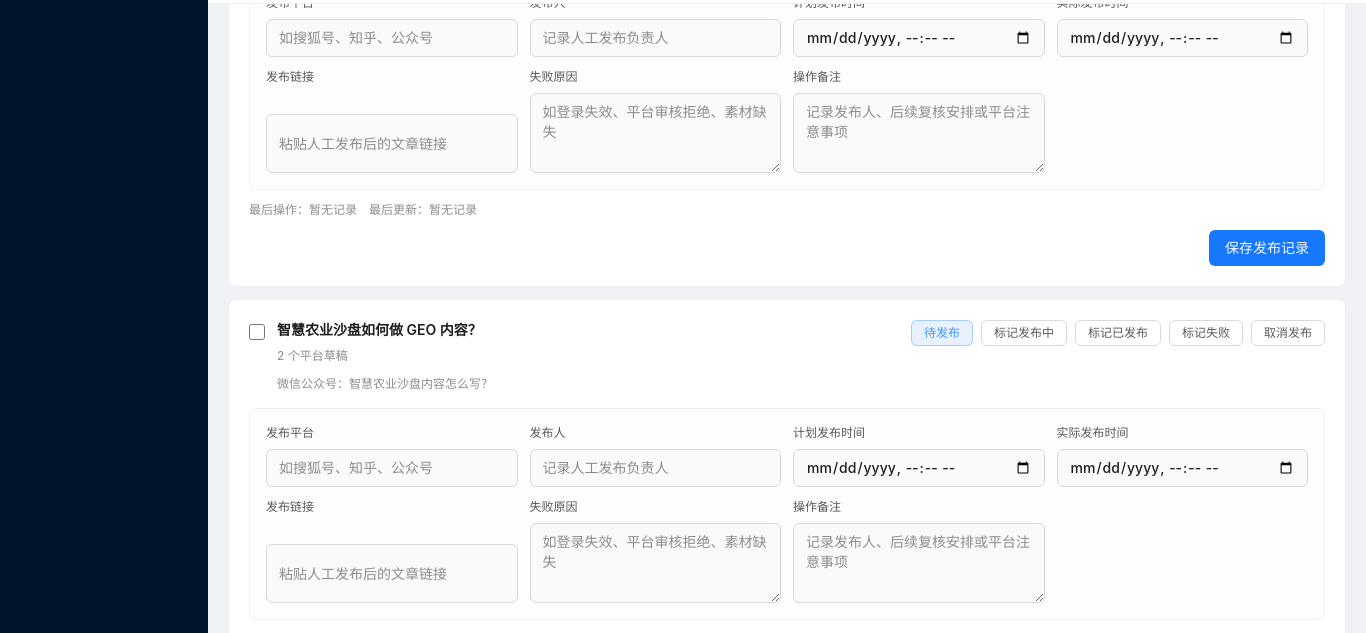
Test: P6 发布准备队列页面 › 支持只导出选中的发布准备记录
(page scrolled)
Click the checkbox named "选择发布记录 智慧农业沙盘如何做 GEO 内容？" at (257, 332), box [249, 324, 265, 340]
(page scrolled)
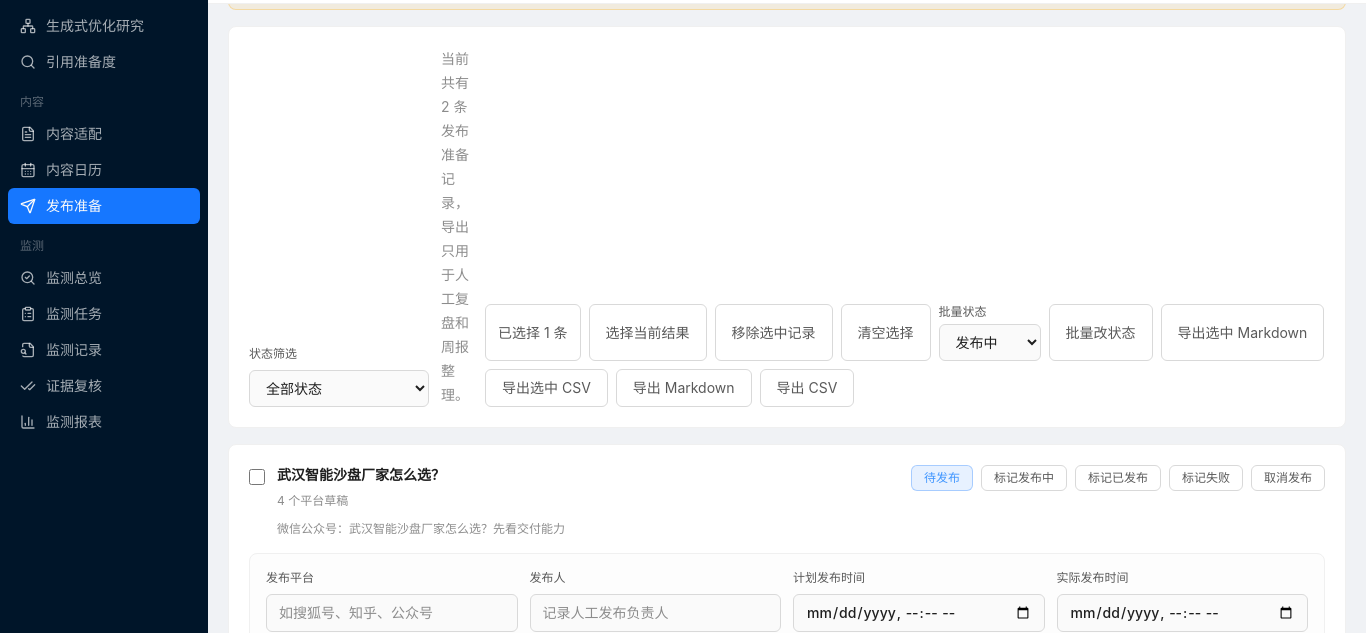
Click the button "导出选中 Markdown" at (1242, 332), box [1161, 304, 1324, 361]
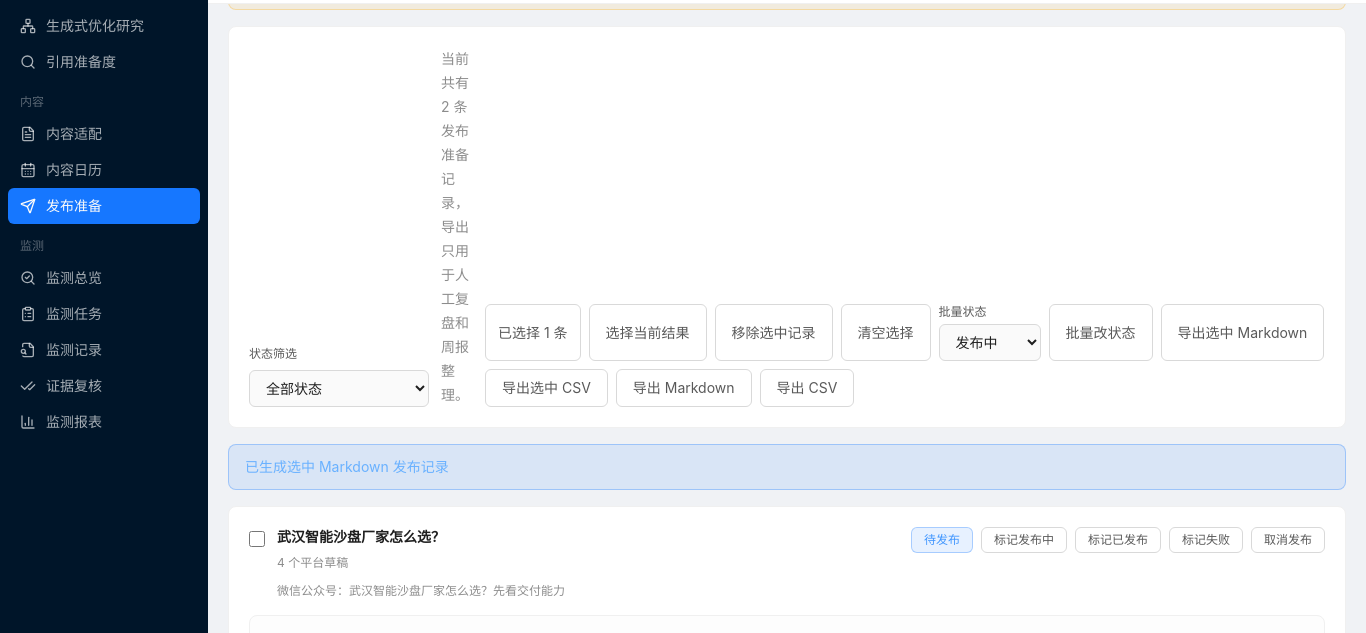
Check: the text "已生成选中 Markdown 发布记录" is shown, box [245, 457, 449, 477]
Click the button "导出选中 CSV" at (546, 388), box [485, 369, 608, 407]
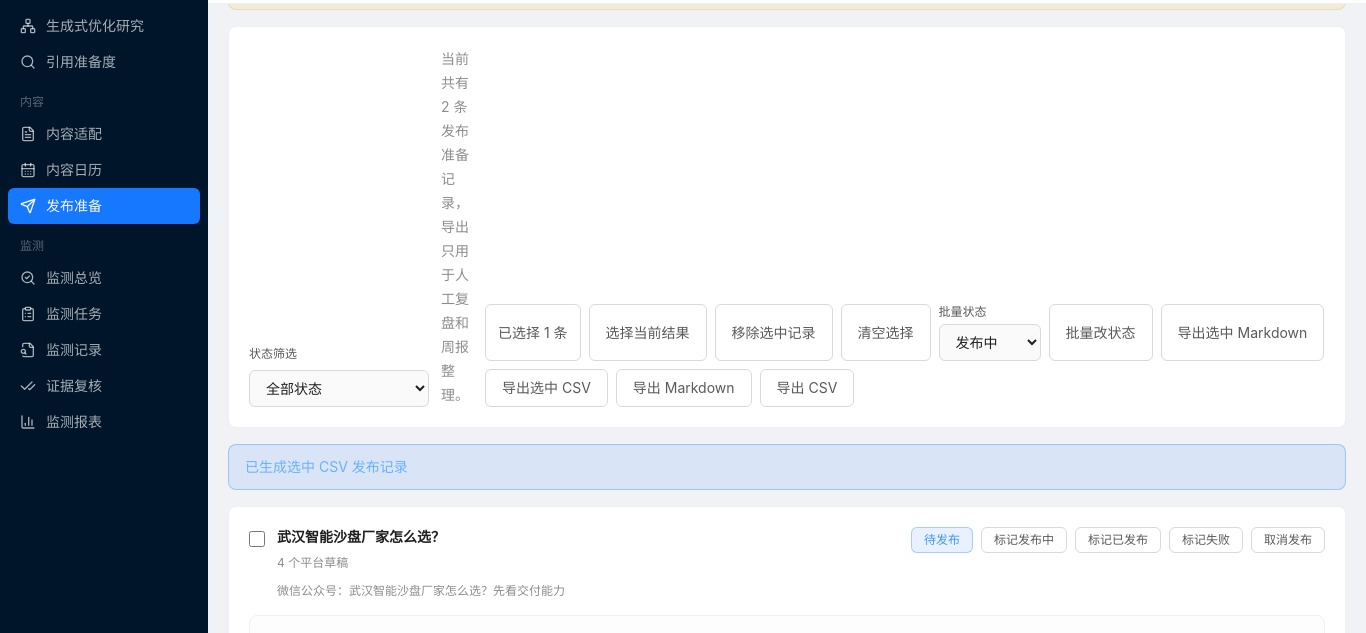
Check: the text "已生成选中 CSV 发布记录" is shown, box [245, 457, 408, 477]
